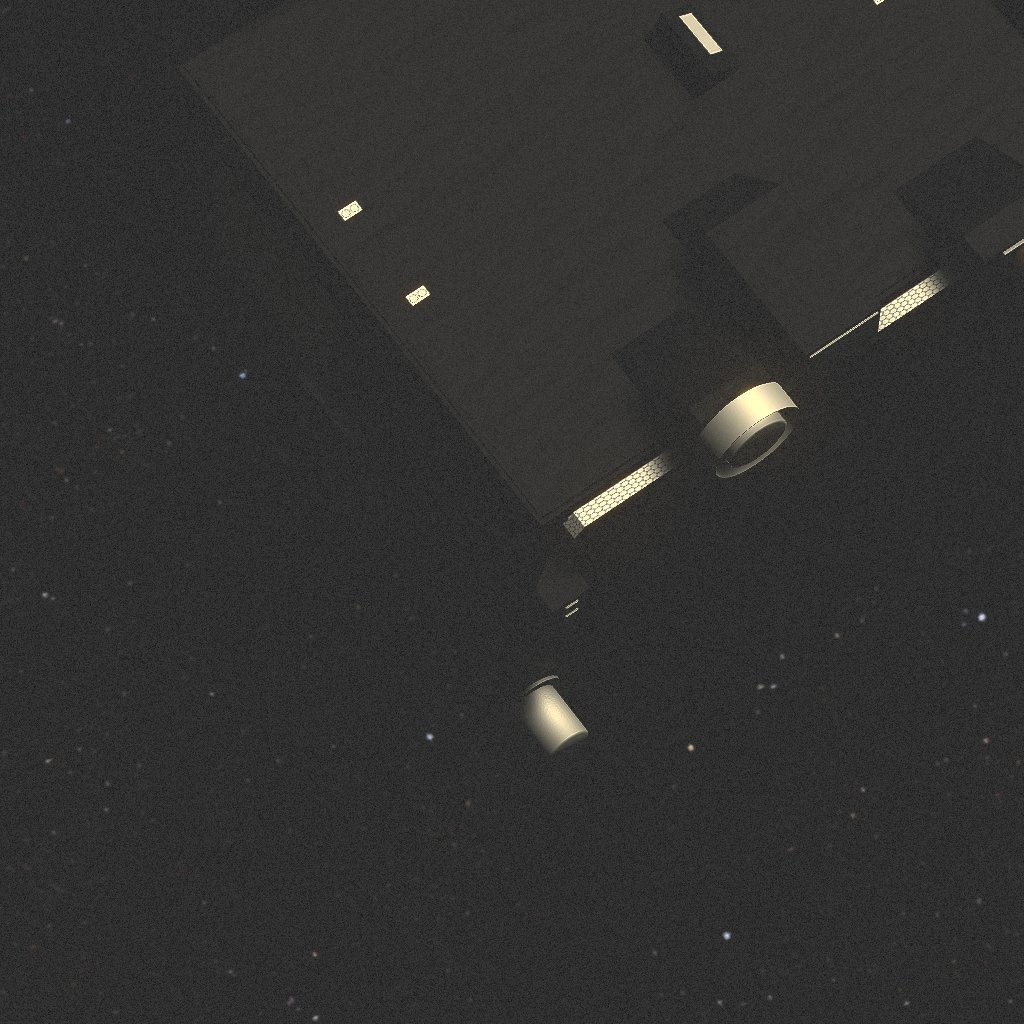proba_3_ocs: (85, 0, 1024, 771)
